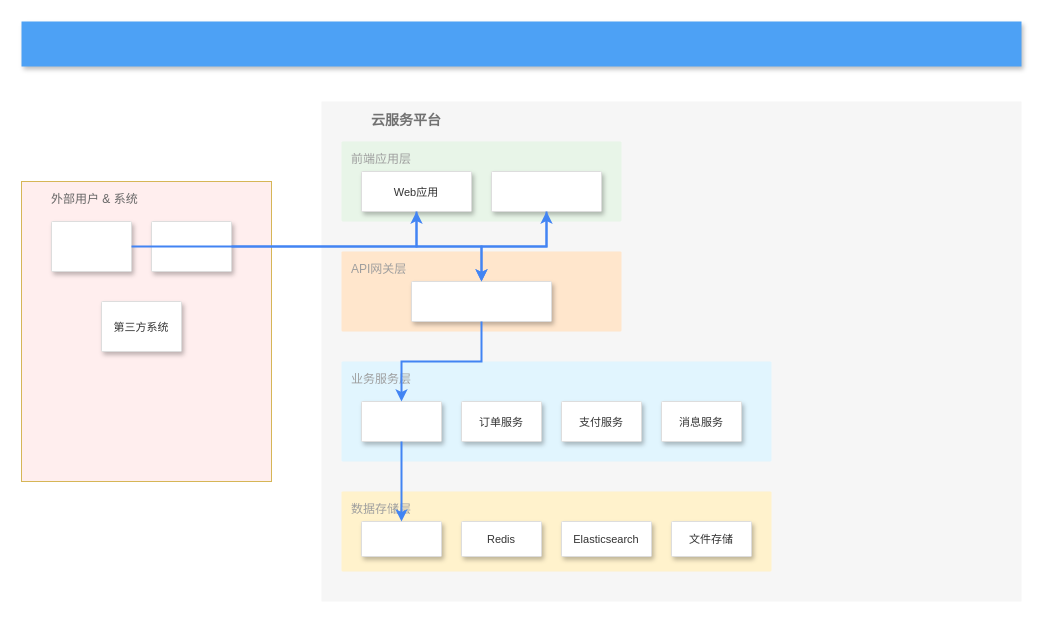
Some shapes in this 1044 by 618 pixel diagram are drawn without their labels. The shapes that lost their labels are listed below. From the top down, each one's centre as x and y in pixels, then its label:
the point at 522,45: 技术架构图 > 智能化业务处理平台
the point at 547,192: 移动应用
the point at 92,247: 客户用户
the point at 192,247: 管理员
the point at 482,302: API网关
the point at 402,422: 用户服务
the point at 402,540: MySQL
